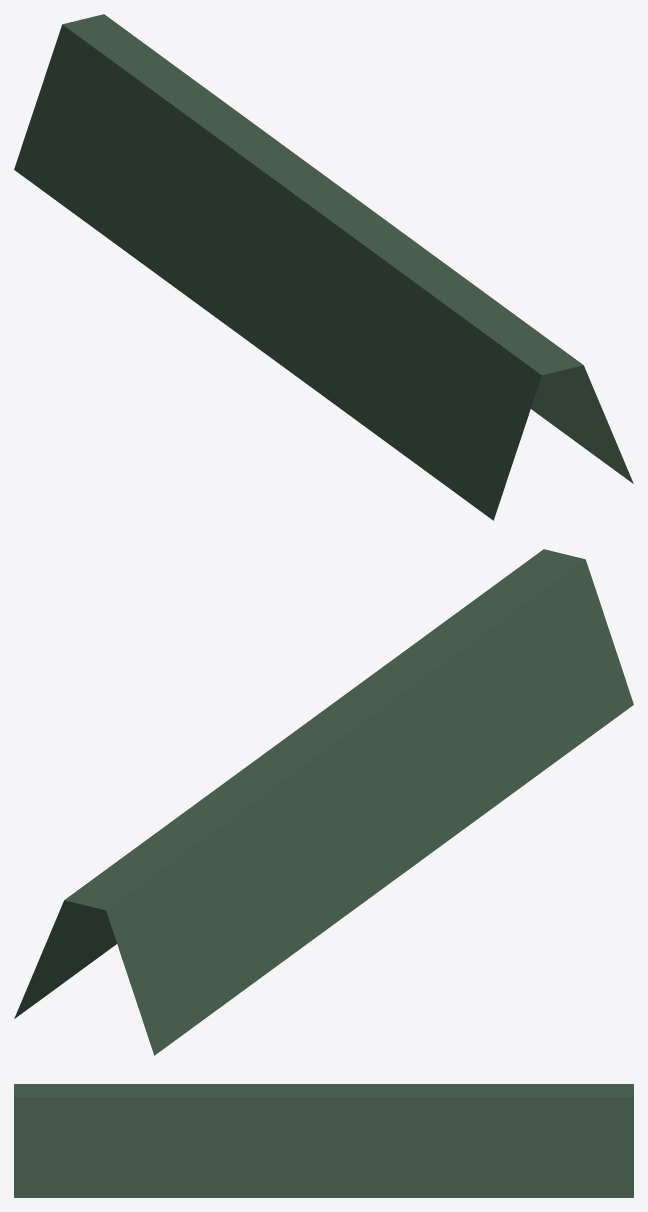
File: goods-cover.dae
3 renders of one model, top to bottom at view 1: azimuth 30°, elevation 25°; view 2: azimuth 150°, elevation 25°; view 3: azimuth 270°, elevation 25°, orthographic. The views are drawn at different scales.
Visible parts, largest first — view 1: _003; view 2: _003; view 3: _003.
Boxes of the visible parts, left/top/right/bottom form: _003: left=14, top=14, right=633, bottom=520; _003: left=14, top=549, right=633, bottom=1055; _003: left=14, top=1084, right=633, bottom=1197.
Size of the model in its own units: 0.6601 by 3.91 by 0.6007.
